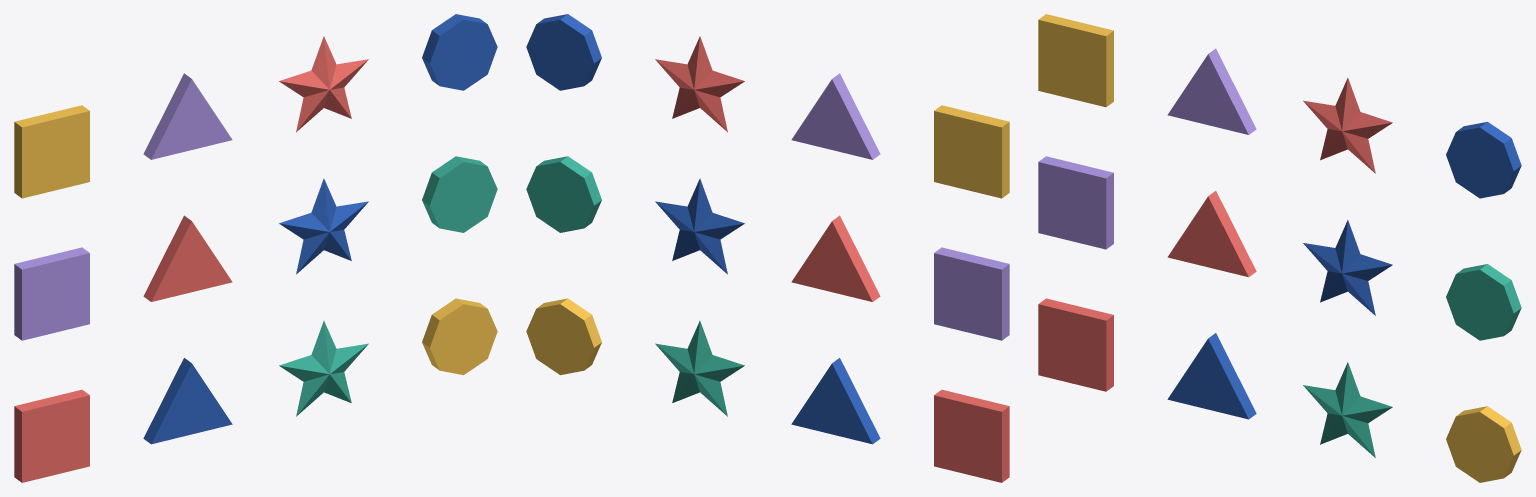
Rendered from confetti_pieces.glb.
3 views of the same model, side by side, from view 1: azimuth 30°, elevation 25°; view 2: azimuth 150°, elevation 25°; view 3: azimuth 330°, elevation 25° (orthographic).
Parts seen in each view (by area): view 1: piece_4, piece_0, piece_8, piece_11, piece_3, piece_7, piece_5, piece_9, piece_1, piece_10, piece_2, piece_6; view 2: piece_4, piece_0, piece_8, piece_11, piece_3, piece_7, piece_5, piece_9, piece_1, piece_10, piece_2, piece_6; view 3: piece_4, piece_8, piece_0, piece_3, piece_11, piece_7, piece_1, piece_9, piece_5, piece_6, piece_2, piece_10.
Boxes of the visible parts, left/top/right/bottom form: piece_4: left=14, top=247, right=89, bottom=340; piece_0: left=14, top=389, right=89, bottom=482; piece_8: left=14, top=105, right=89, bottom=198; piece_11: left=422, top=14, right=497, bottom=90; piece_3: left=422, top=298, right=497, bottom=375; piece_7: left=422, top=156, right=497, bottom=232; piece_5: left=143, top=215, right=232, bottom=301; piece_9: left=143, top=73, right=232, bottom=159; piece_1: left=143, top=358, right=232, bottom=444; piece_10: left=279, top=36, right=368, bottom=132; piece_2: left=279, top=321, right=368, bottom=416; piece_6: left=279, top=178, right=368, bottom=274; piece_4: left=934, top=247, right=1009, bottom=340; piece_0: left=934, top=389, right=1009, bottom=482; piece_8: left=934, top=105, right=1009, bottom=198; piece_11: left=526, top=14, right=601, bottom=90; piece_3: left=526, top=298, right=601, bottom=375; piece_7: left=526, top=156, right=601, bottom=232; piece_5: left=791, top=215, right=880, bottom=301; piece_9: left=791, top=73, right=880, bottom=159; piece_1: left=791, top=358, right=880, bottom=444; piece_10: left=655, top=36, right=744, bottom=132; piece_2: left=655, top=321, right=744, bottom=416; piece_6: left=655, top=178, right=744, bottom=274; piece_4: left=1038, top=156, right=1113, bottom=249; piece_8: left=1038, top=14, right=1113, bottom=107; piece_0: left=1038, top=298, right=1113, bottom=391; piece_3: left=1446, top=406, right=1521, bottom=482; piece_11: left=1446, top=121, right=1521, bottom=198; piece_7: left=1446, top=264, right=1521, bottom=340; piece_1: left=1167, top=333, right=1256, bottom=419; piece_9: left=1167, top=48, right=1256, bottom=134; piece_5: left=1167, top=191, right=1256, bottom=277; piece_6: left=1303, top=220, right=1392, bottom=315; piece_2: left=1303, top=362, right=1392, bottom=457; piece_10: left=1303, top=77, right=1392, bottom=173.
Bounding box in the file's own units: 0.07 × 0.0527 × 0.003.
